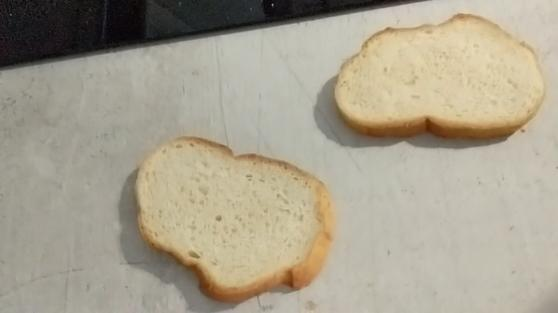white_bread: (132, 134, 333, 295), (329, 13, 547, 137)
